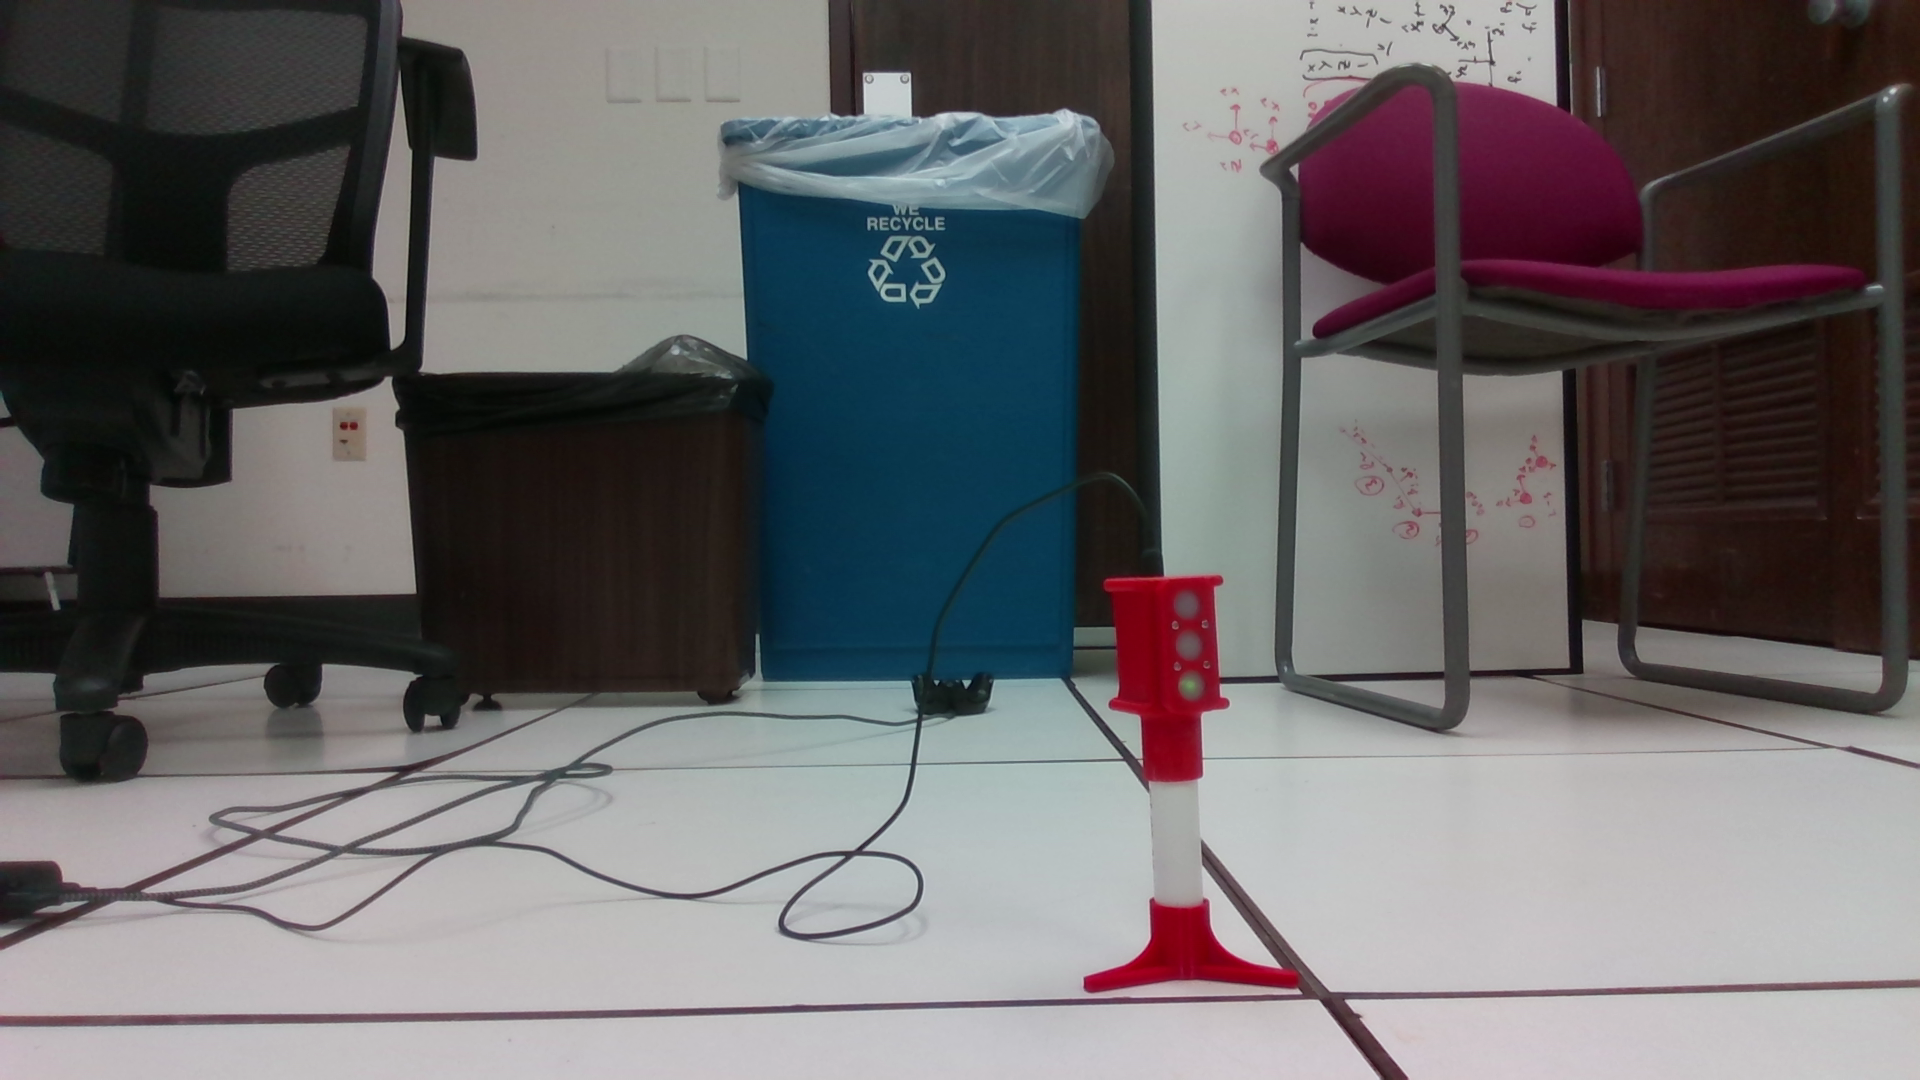stoplight: (1106, 575, 1232, 785)
